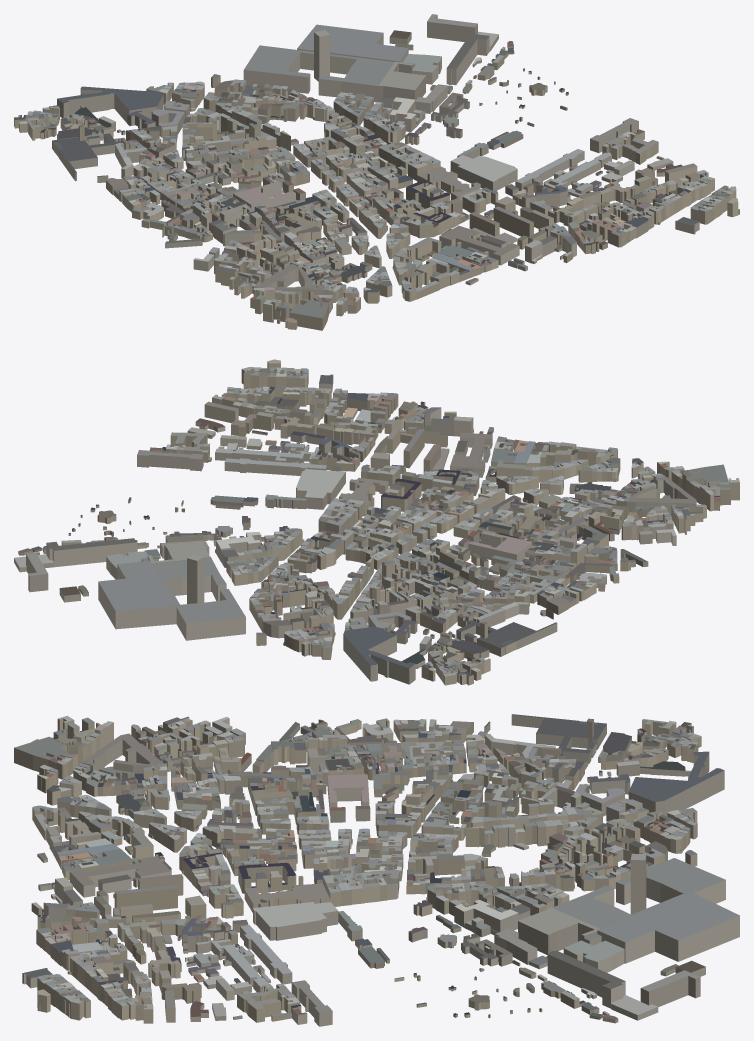
3 renders of one model, top to bottom at view 1: azimuth 30°, elevation 25°; view 2: azimuth 150°, elevation 25°; view 3: azimuth 270°, elevation 25°, orthographic. The views are drawn at different scales.
Visible parts, largest first — view 1: tuile; view 2: tuile; view 3: tuile.
Boxes of the visible parts, bbox=[...] form: tuile: bbox=[14, 14, 739, 330]; tuile: bbox=[14, 359, 739, 685]; tuile: bbox=[14, 714, 739, 1026].
Size of the model in its own units: 1035 by 101 by 1102.
